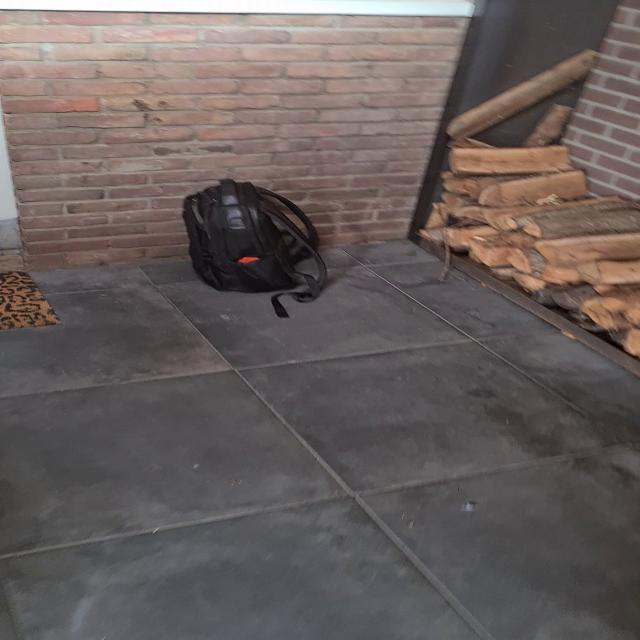backpack: (175, 176, 326, 302)
